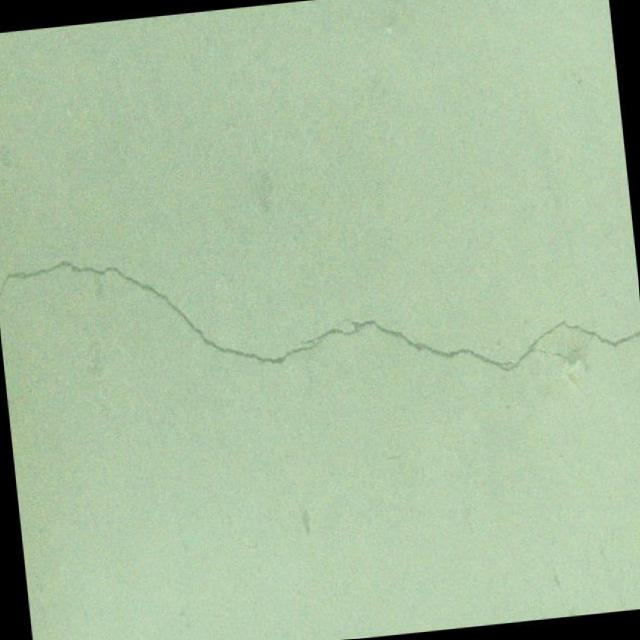crack: (0, 199, 640, 424)
